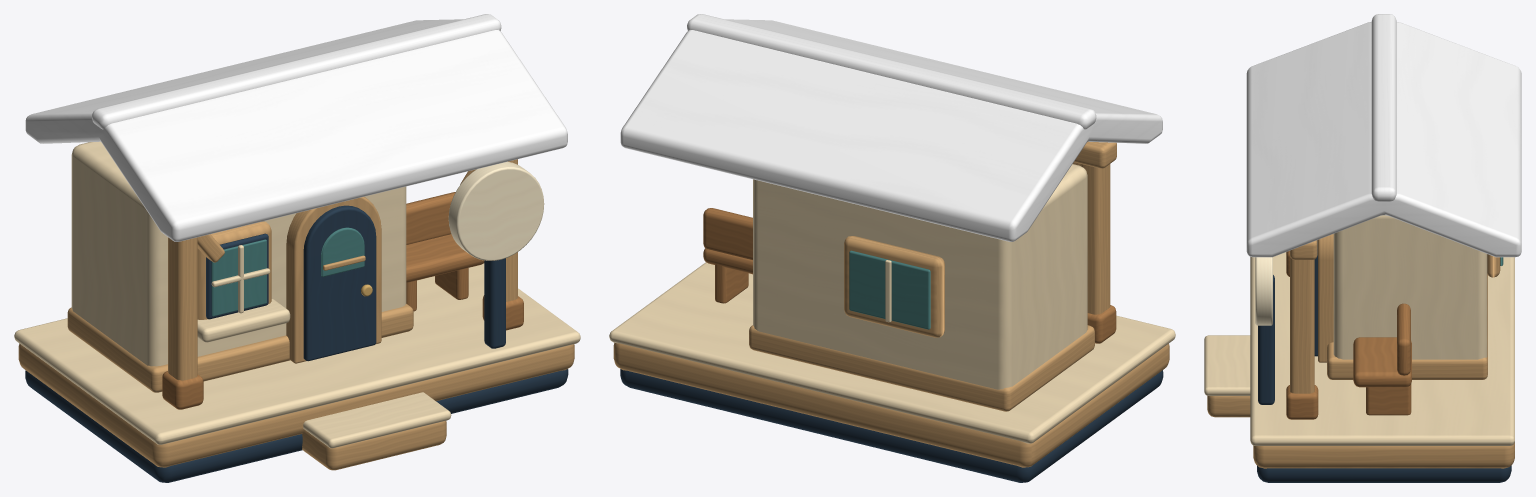
File: original-station-runtime.glb
3 views of the same model, side by side, from view 1: azimuth 30°, elevation 25°; view 2: azimuth 150°, elevation 25°; view 3: azimuth 270°, elevation 25° (orthographic). The views are drawn at different scales.
Parts seen in each view (by area): view 1: Body, RoofTint, BadgeFace, BadgePost; view 2: Body, RoofTint; view 3: Body, RoofTint, BadgePost, BadgeFace.
Part boxes in pixels (x1,y1,x2,y2): Body: (14, 141, 580, 482); RoofTint: (25, 14, 567, 241); BadgeFace: (448, 161, 544, 260); BadgePost: (484, 258, 505, 348); Body: (609, 141, 1175, 482); RoofTint: (620, 14, 1162, 241); Body: (1204, 215, 1514, 482); RoofTint: (1246, 14, 1521, 257); BadgePost: (1258, 275, 1274, 404); BadgeFace: (1255, 257, 1272, 325).
Size of the model in its own units: 3.05 by 2.22 by 2.17.
Materials: 1 (1 with a texture image).
